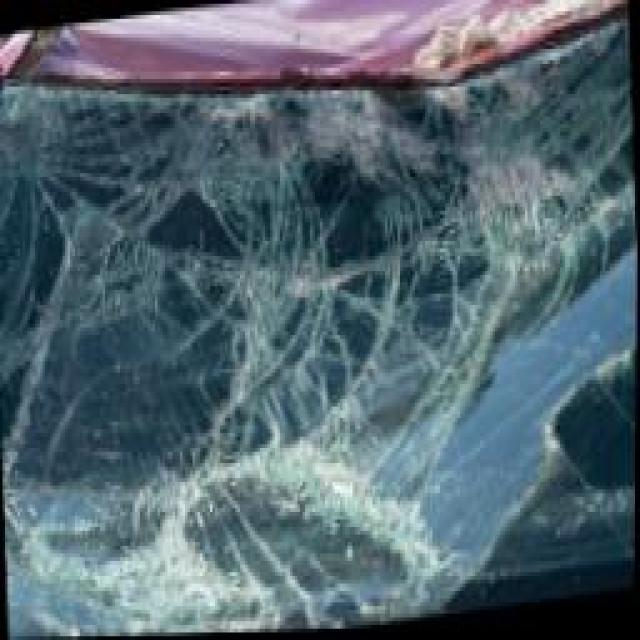Windshield: (2, 16, 637, 640)
